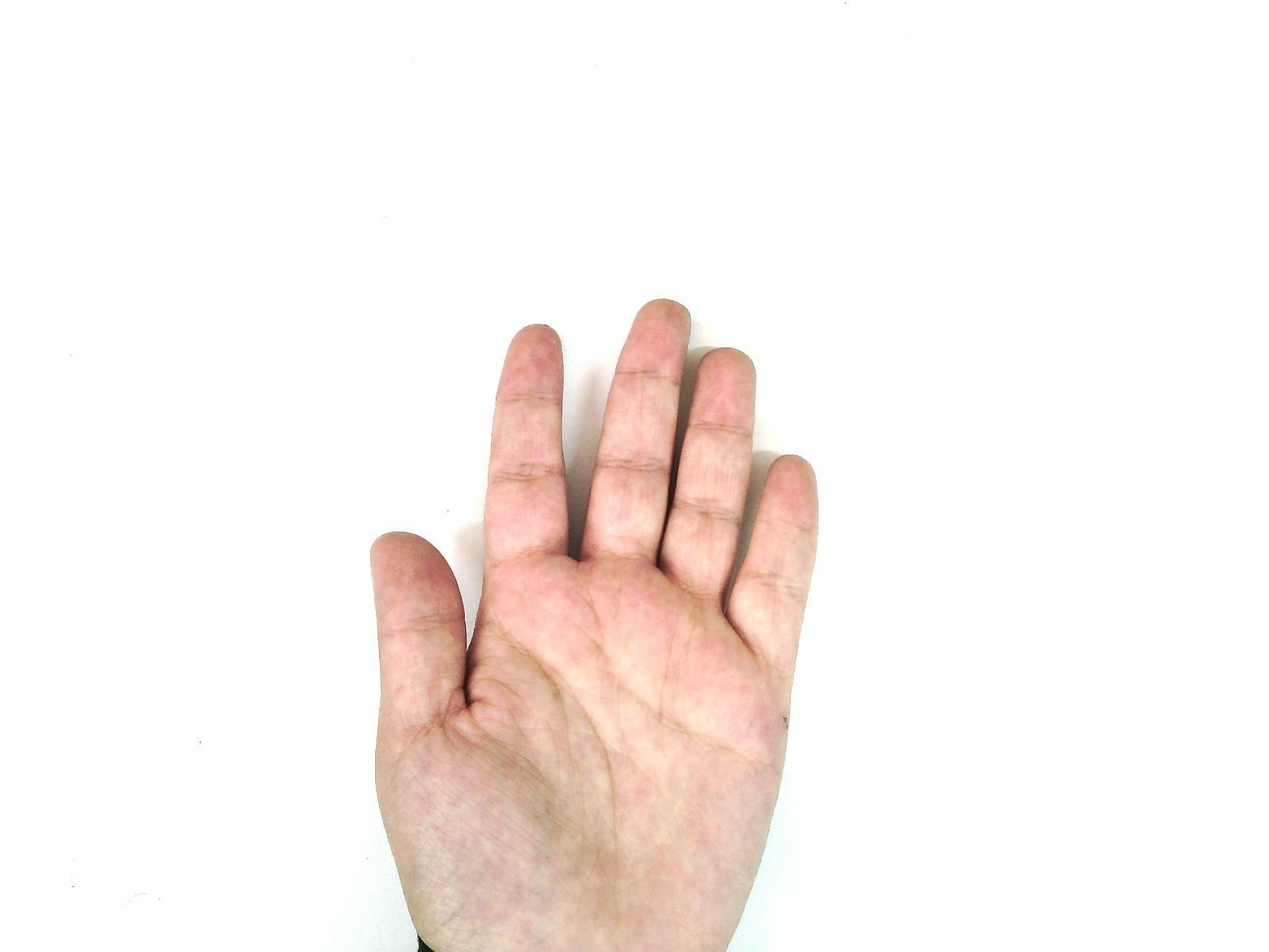open_palm: (366, 297, 822, 951)
